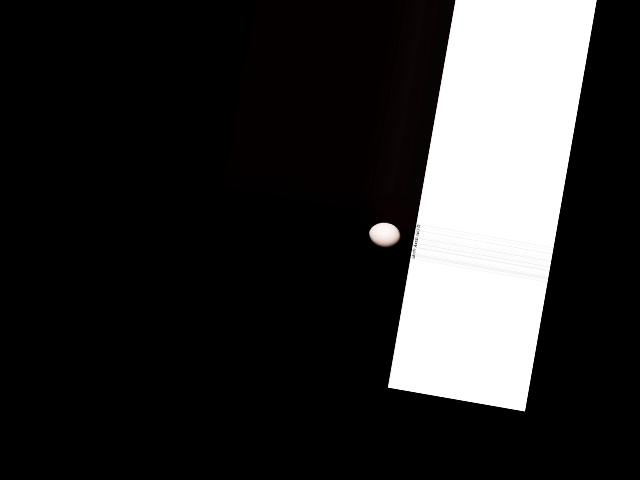egg: (367, 220, 403, 249)
